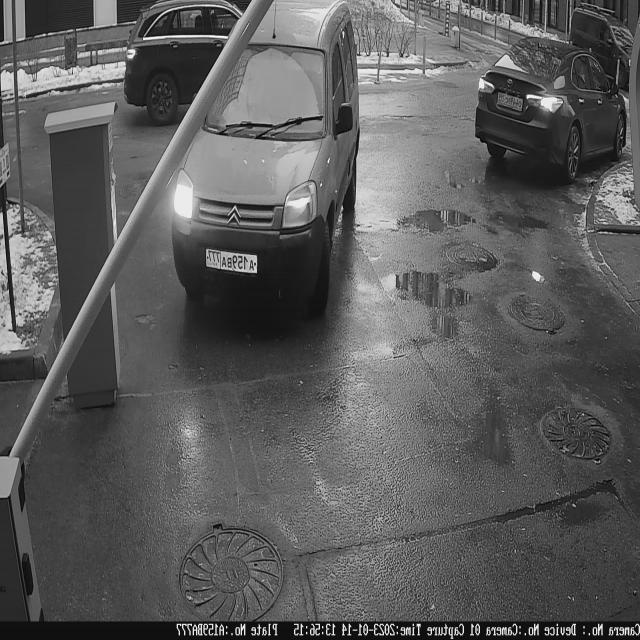car-plate-numbers: (203, 246, 260, 279)
